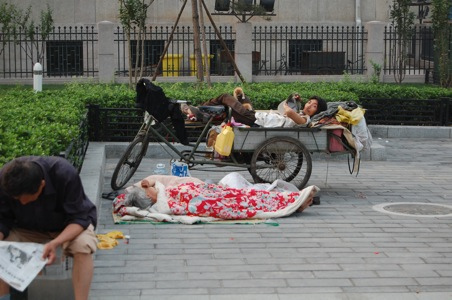person: (1, 157, 98, 300)
